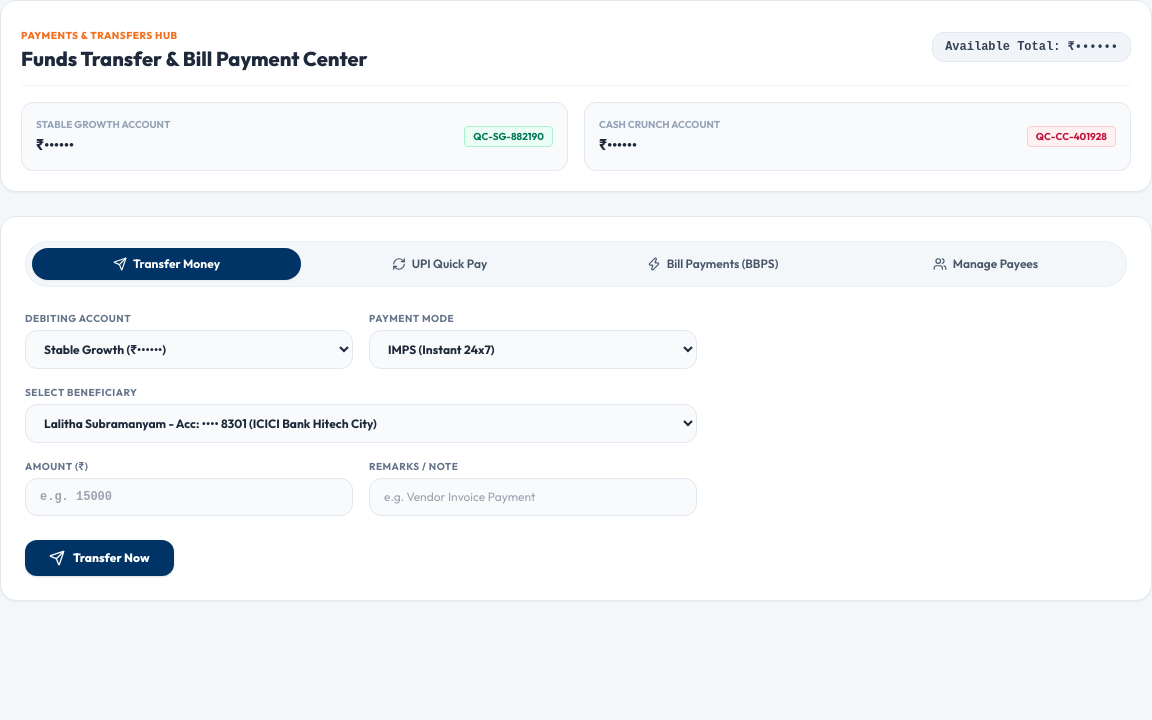
Scenario: Overview Quick Actions & Statement Modal Integration Tests › should execute transfers in PaymentTransferView
The image size is (1152, 720).
Expected: the heading "Funds Transfer & Bill Payment Center" is shown, [21,45,368,73]
Expected: the text "Stable Growth Account" is shown, [36,117,170,132]
Type "5000" into the field with placeholder "e.g. 15000" at (189, 497), box [25,478,353,516]
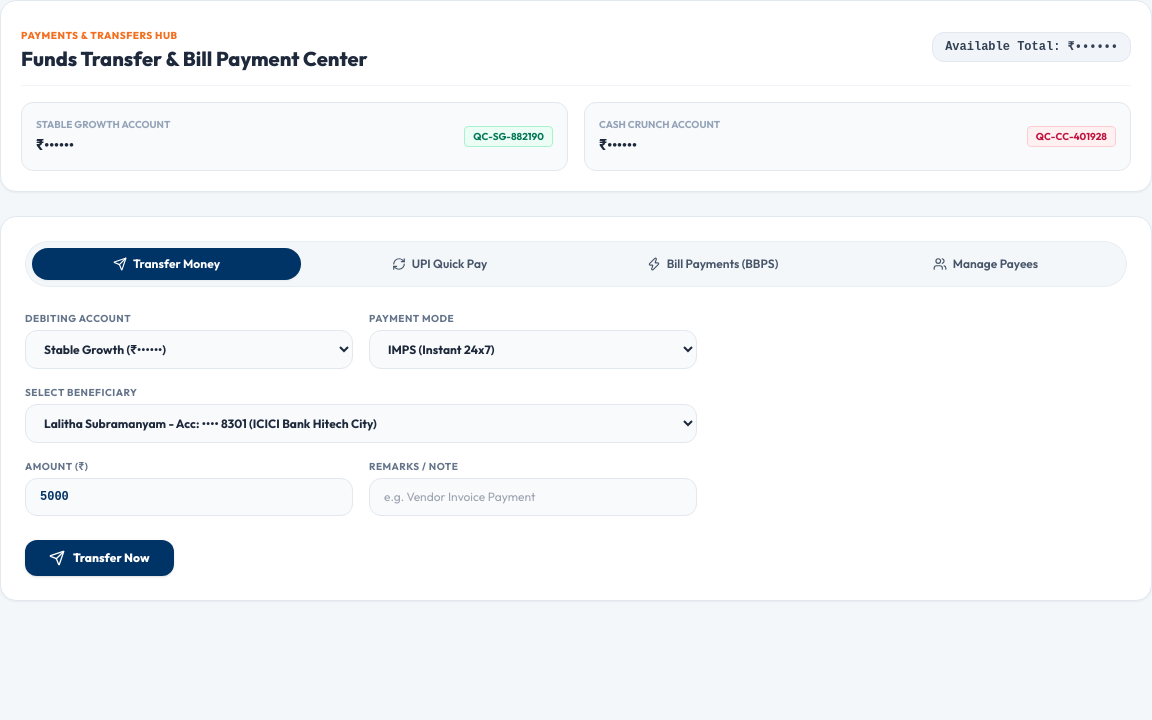
Click the button "Transfer Now" at (99, 558), box [25,540,174,576]
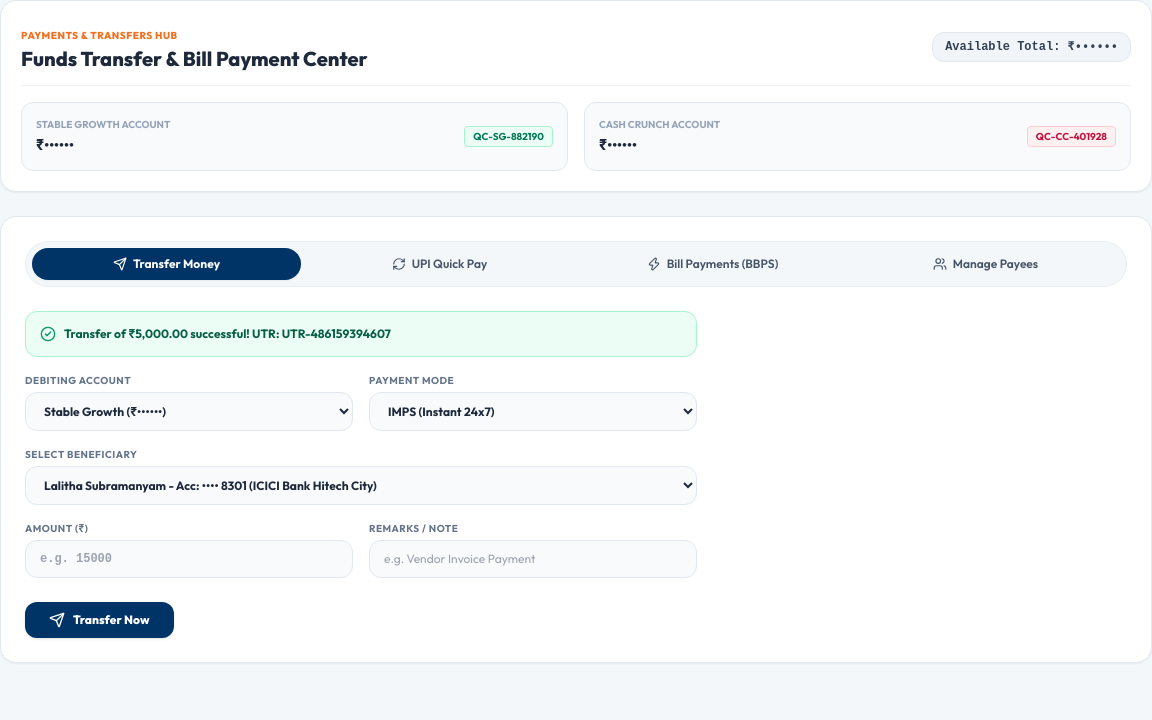
Expected: the text "Transfer of ₹5,000.00 successful! UTR: UTR-486159394607" is shown, [64,326,391,342]
